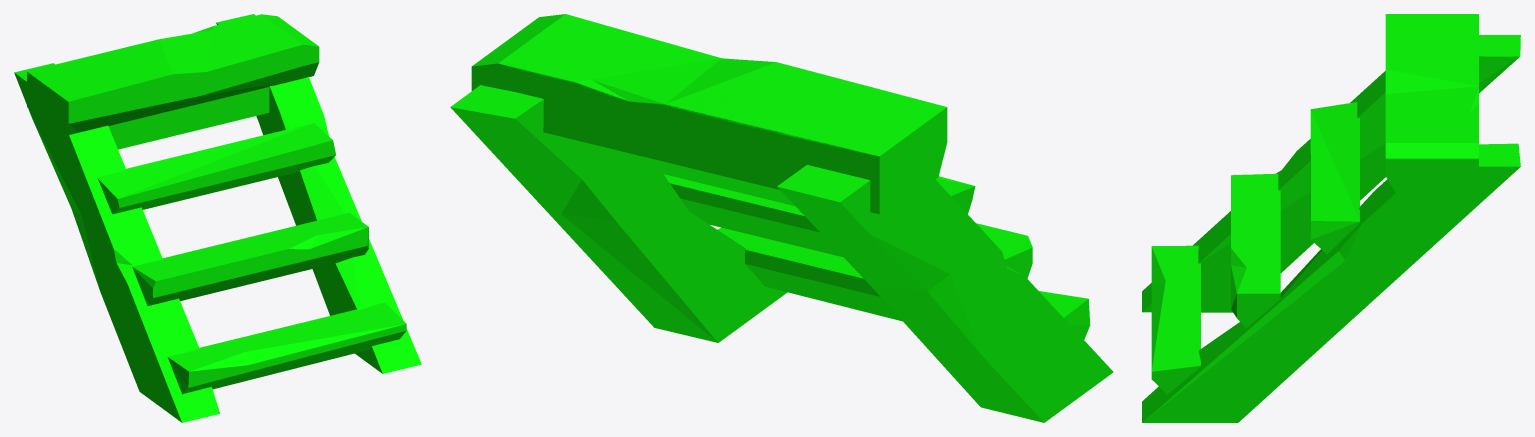
File: SM_Stairs_Wood_Regular_Top_1m_Fantasy.fbx
3 renders of one model, left to right at view 1: azimuth 30°, elevation 25°; view 2: azimuth 150°, elevation 25°; view 3: azimuth 270°, elevation 25°, orthographic. The views are drawn at different scales.
Visible parts, largest first — view 1: stairs-wood-regular-top-1m-fantasy; view 2: stairs-wood-regular-top-1m-fantasy; view 3: stairs-wood-regular-top-1m-fantasy.
Boxes of the visible parts, <box> form: stairs-wood-regular-top-1m-fantasy: <box>14,14,421,422</box>; stairs-wood-regular-top-1m-fantasy: <box>450,14,1113,422</box>; stairs-wood-regular-top-1m-fantasy: <box>1142,14,1520,422</box>.
Size of the model in its own units: 1.03 by 0.959 by 1.19.
